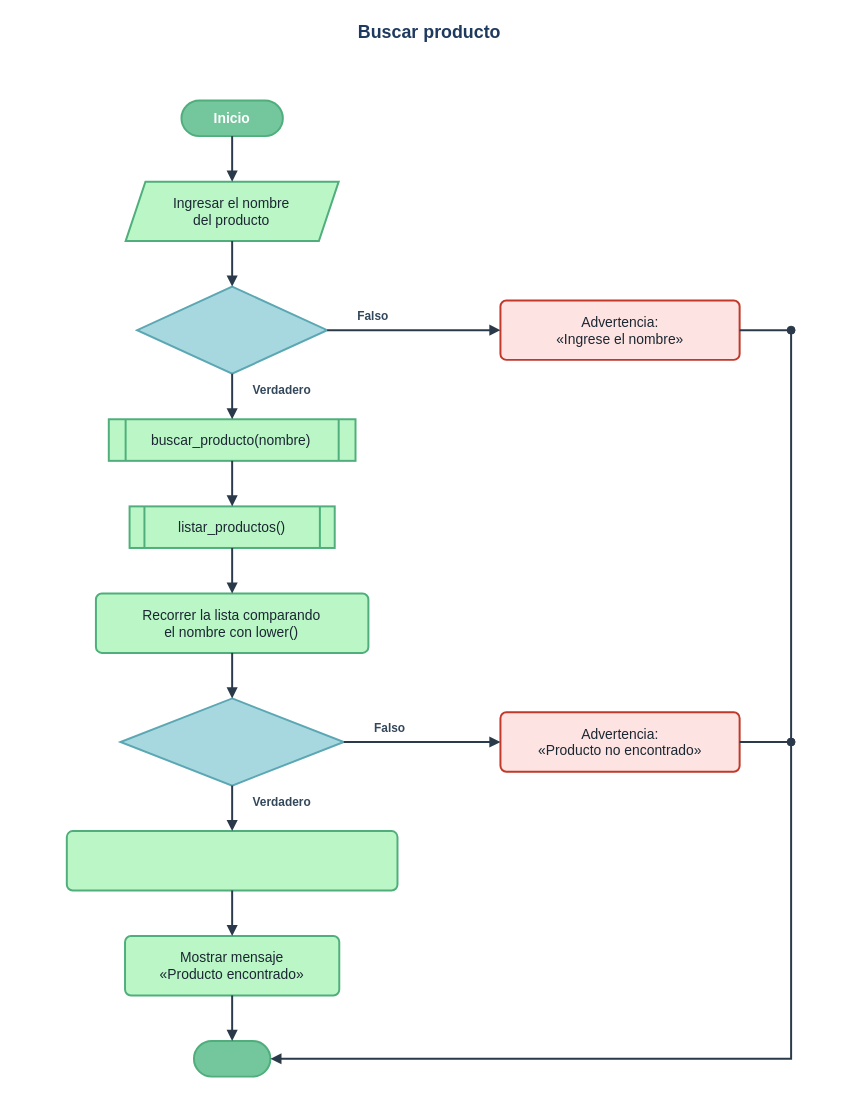
Some shapes in this 856 by 1094 pixel diagram are drawn without their labels. Each missing label, with the centre of its shape:
Fin: [231,1058]
Mostrar nombre, precio y existencia en los campos del formulario: [231,860]
¿Nombre ingresado?: [232,329]
¿Se encontró el producto?: [231,741]
